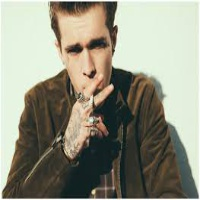ring: (83, 115, 109, 127)
